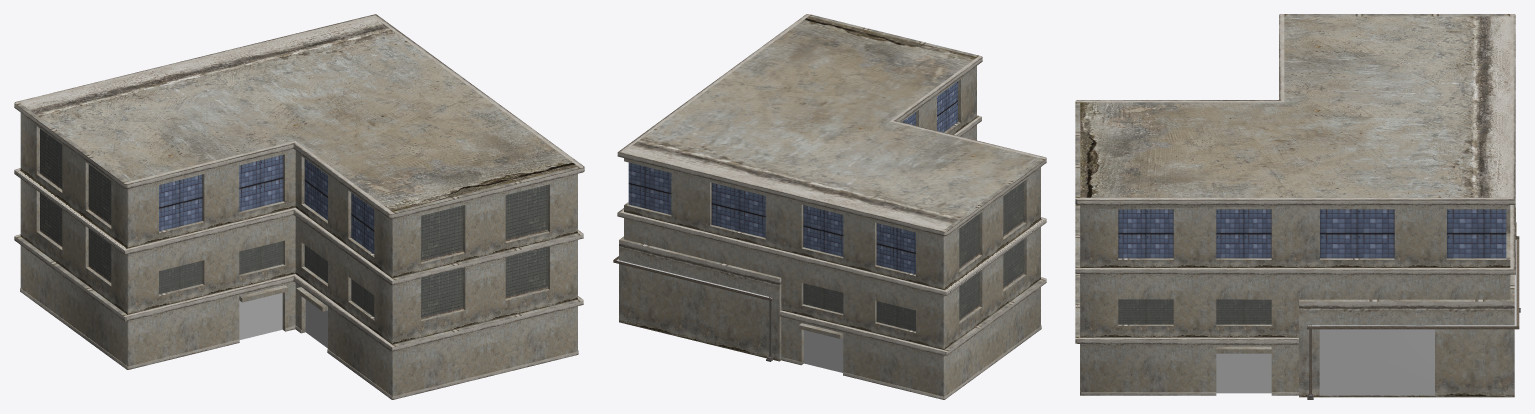
File: WarehouseBrickC.FBX
The picture shows the model from 3 angles, left to right: view 1: azimuth 30°, elevation 25°; view 2: azimuth 150°, elevation 25°; view 3: azimuth 270°, elevation 25°; orthographic projection. The views are drawn at different scales.
Visible parts, largest first — view 1: WarehouseBrickC; view 2: WarehouseBrickC; view 3: WarehouseBrickC.
Boxes of the visible parts, x1,y1,x2,y2 form: WarehouseBrickC: (14,14,584,399); WarehouseBrickC: (613,14,1046,399); WarehouseBrickC: (1075,14,1520,399).
Size of the model in its own units: 2316 by 1135 by 2316.
